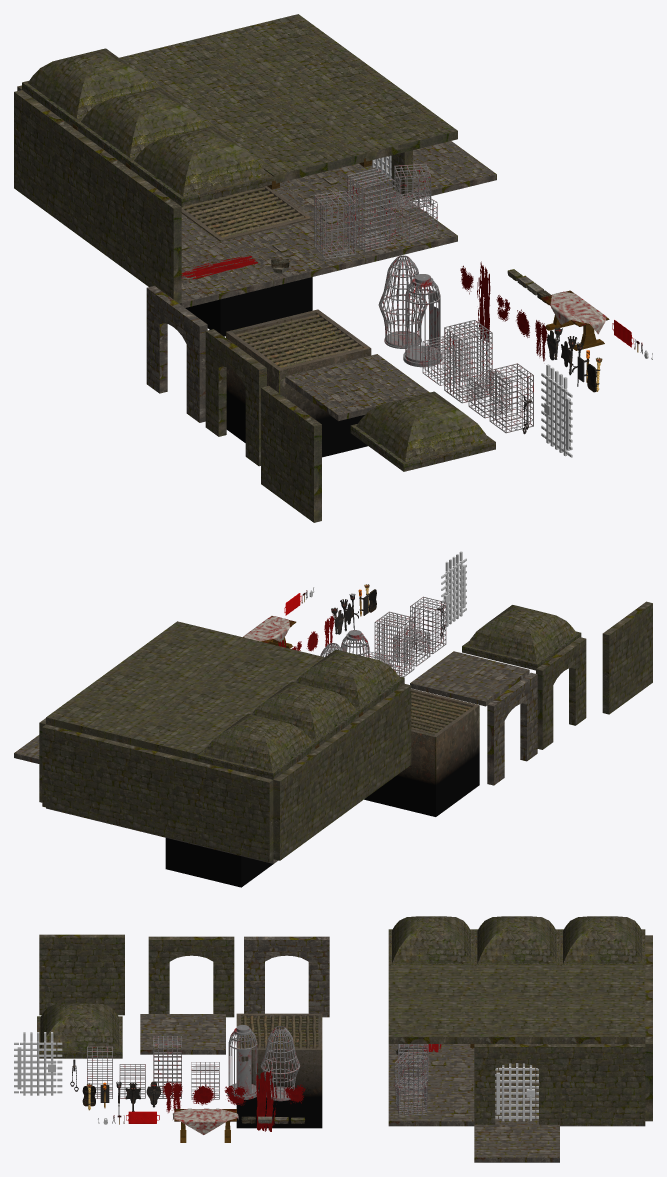
Rendered from DungeonAssets.fbx.
3 views of the same model, one above another, from view 1: azimuth 30°, elevation 25°; view 2: azimuth 150°, elevation 25°; view 3: azimuth 270°, elevation 25° (orthographic). The views are drawn at different scales.
Visible parts, largest first — view 1: DungeonGrate.001, DungeonGrate, Roof.003, Roof, DungeonWall.006, DungeonWall, DungeonWall.001, DungeonWall.002, DungeonWall.011, Roof.002, Roof.001, DungeonWall.008 (+29 smaller); view 2: DungeonGrate.001, DungeonWall.005, DungeonWall.003, DungeonWall.004, Roof.002, Roof.003, DungeonWall.006, DungeonWall.002, DungeonWall, Floor.001, DungeonWall.013, DungeonWall.001 (+16 smaller); view 3: DungeonWall.007, DungeonGrate.001, DungeonWall.006, DungeonArch.001, DungeonArch, DungeonArch.002, Roof.003, Roof, Roof.002, Roof.001, DungeonWall.011, DungeonWall.012 (+28 smaller).
Part boxes in pixels (x1=…): DungeonGrate.001: x1=226, y1=309, x2=371, y2=457; DungeonGrate: x1=181, y1=186, x2=312, y2=336; Roof.003: x1=350, y1=391, x2=495, y2=471; Roof: x1=128, y1=126, x2=273, y2=206; DungeonWall.006: x1=261, y1=385, x2=321, y2=522; DungeonWall: x1=120, y1=168, x2=181, y2=303; DungeonWall.001: x1=67, y1=129, x2=127, y2=265; DungeonWall.002: x1=14, y1=90, x2=74, y2=226; DungeonWall.011: x1=313, y1=92, x2=457, y2=161; Roof.002: x1=22, y1=48, x2=154, y2=126; Roof.001: x1=75, y1=87, x2=207, y2=165; DungeonWall.008: x1=225, y1=114, x2=365, y2=183; DungeonGrate.001: x1=364, y1=688, x2=479, y2=816; DungeonWall.005: x1=193, y1=761, x2=273, y2=861; DungeonWall.003: x1=42, y1=724, x2=121, y2=824; DungeonWall.004: x1=118, y1=743, x2=197, y2=843; Roof.002: x1=197, y1=713, x2=317, y2=779; Roof.003: x1=462, y1=605, x2=581, y2=670; DungeonWall.006: x1=602, y1=601, x2=652, y2=714; DungeonWall.002: x1=273, y1=748, x2=323, y2=860; DungeonWall: x1=361, y1=684, x2=411, y2=796; Floor.001: x1=410, y1=651, x2=529, y2=706; DungeonWall.013: x1=46, y1=685, x2=164, y2=742; DungeonWall.001: x1=318, y1=716, x2=367, y2=828; DungeonWall.007: x1=560, y1=1044, x2=645, y2=1124; DungeonGrate.001: x1=236, y1=1013, x2=322, y2=1128; DungeonWall.006: x1=39, y1=934, x2=124, y2=1015; DungeonArch.001: x1=148, y1=936, x2=234, y2=1017; DungeonArch: x1=474, y1=1044, x2=559, y2=1124; DungeonArch.002: x1=244, y1=936, x2=329, y2=1017; Roof.003: x1=37, y1=1003, x2=122, y2=1058; Roof: x1=388, y1=916, x2=474, y2=964; Roof.002: x1=560, y1=916, x2=645, y2=964; Roof.001: x1=474, y1=916, x2=559, y2=964; DungeonWall.011: x1=388, y1=1001, x2=474, y2=1043; DungeonWall.012: x1=474, y1=1001, x2=559, y2=1043.
Bounding box in the file's own units: 984 × 485 × 1492.
